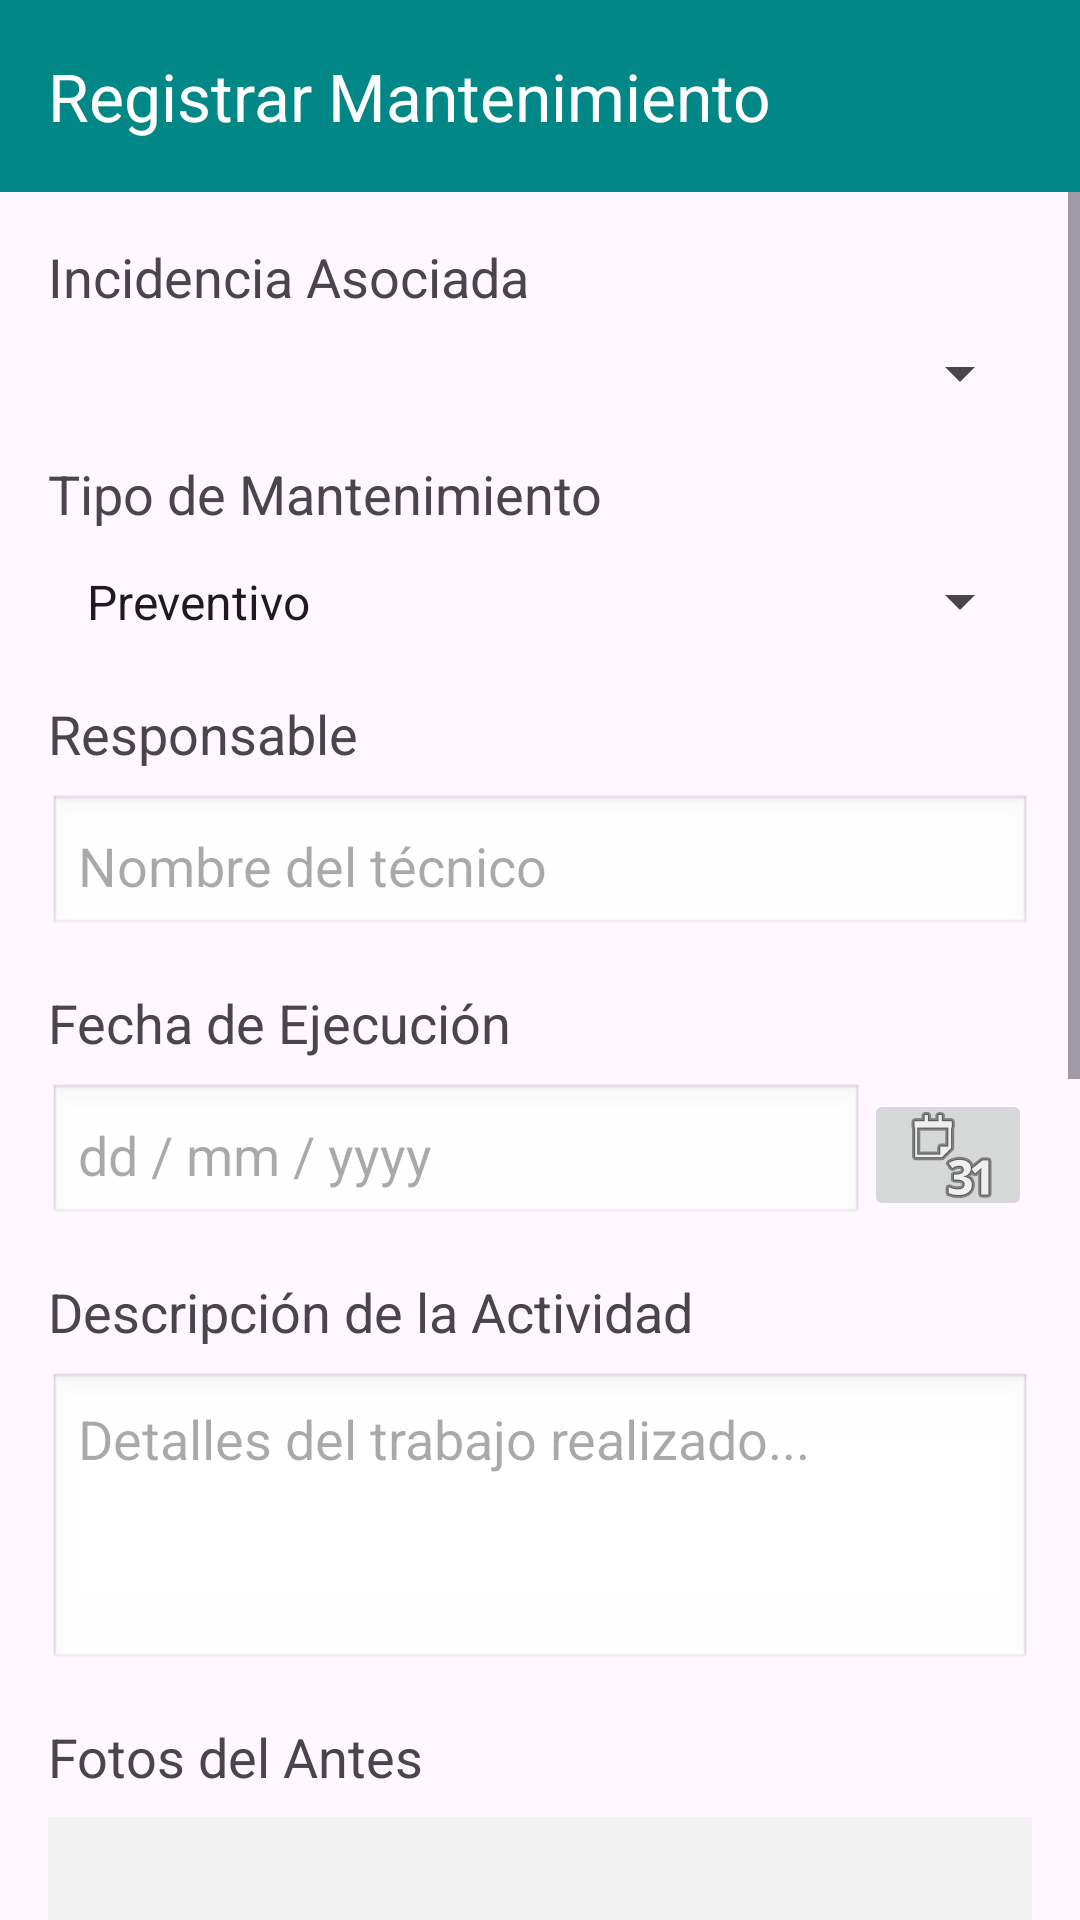

Icon click points for this 1080 × 1920 phone screenshot, format [x,y]:
month: [948,1155]
